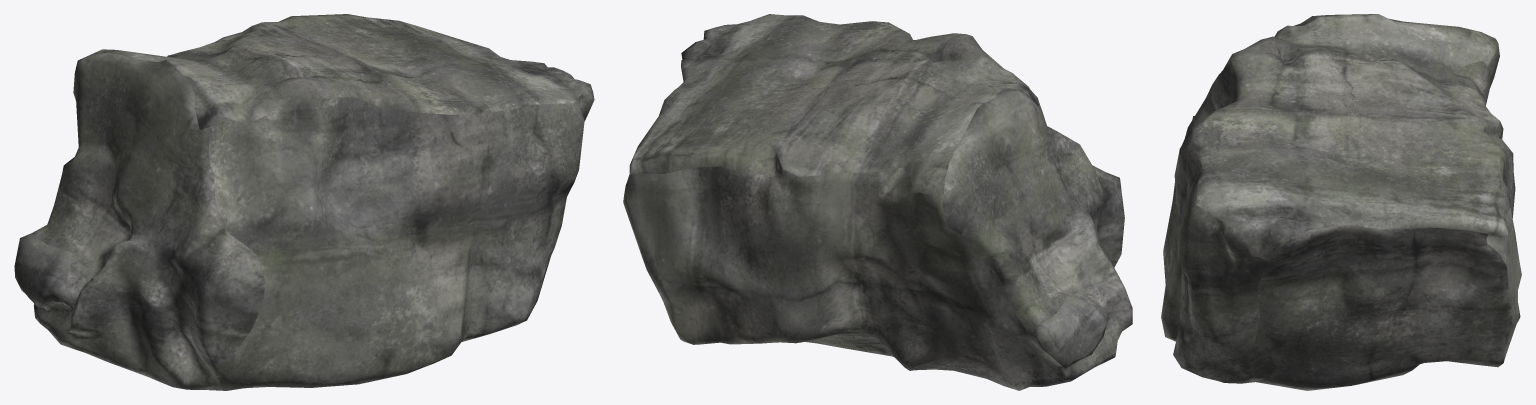
File: SM_Small_Rock_A.fbx
The picture shows the model from 3 angles, left to right: view 1: azimuth 30°, elevation 25°; view 2: azimuth 150°, elevation 25°; view 3: azimuth 270°, elevation 25°; orthographic projection. The views are drawn at different scales.
Parts seen in each view (by area): view 1: SM_Small_Rock_A_LOD0; view 2: SM_Small_Rock_A_LOD0; view 3: SM_Small_Rock_A_LOD0.
Boxes of the visible parts, x1,y1,x2,y2 form: SM_Small_Rock_A_LOD0: (14,14,594,390); SM_Small_Rock_A_LOD0: (623,14,1132,390); SM_Small_Rock_A_LOD0: (1161,14,1521,390).
Size of the model in its own units: 168 by 115 by 94.51.
